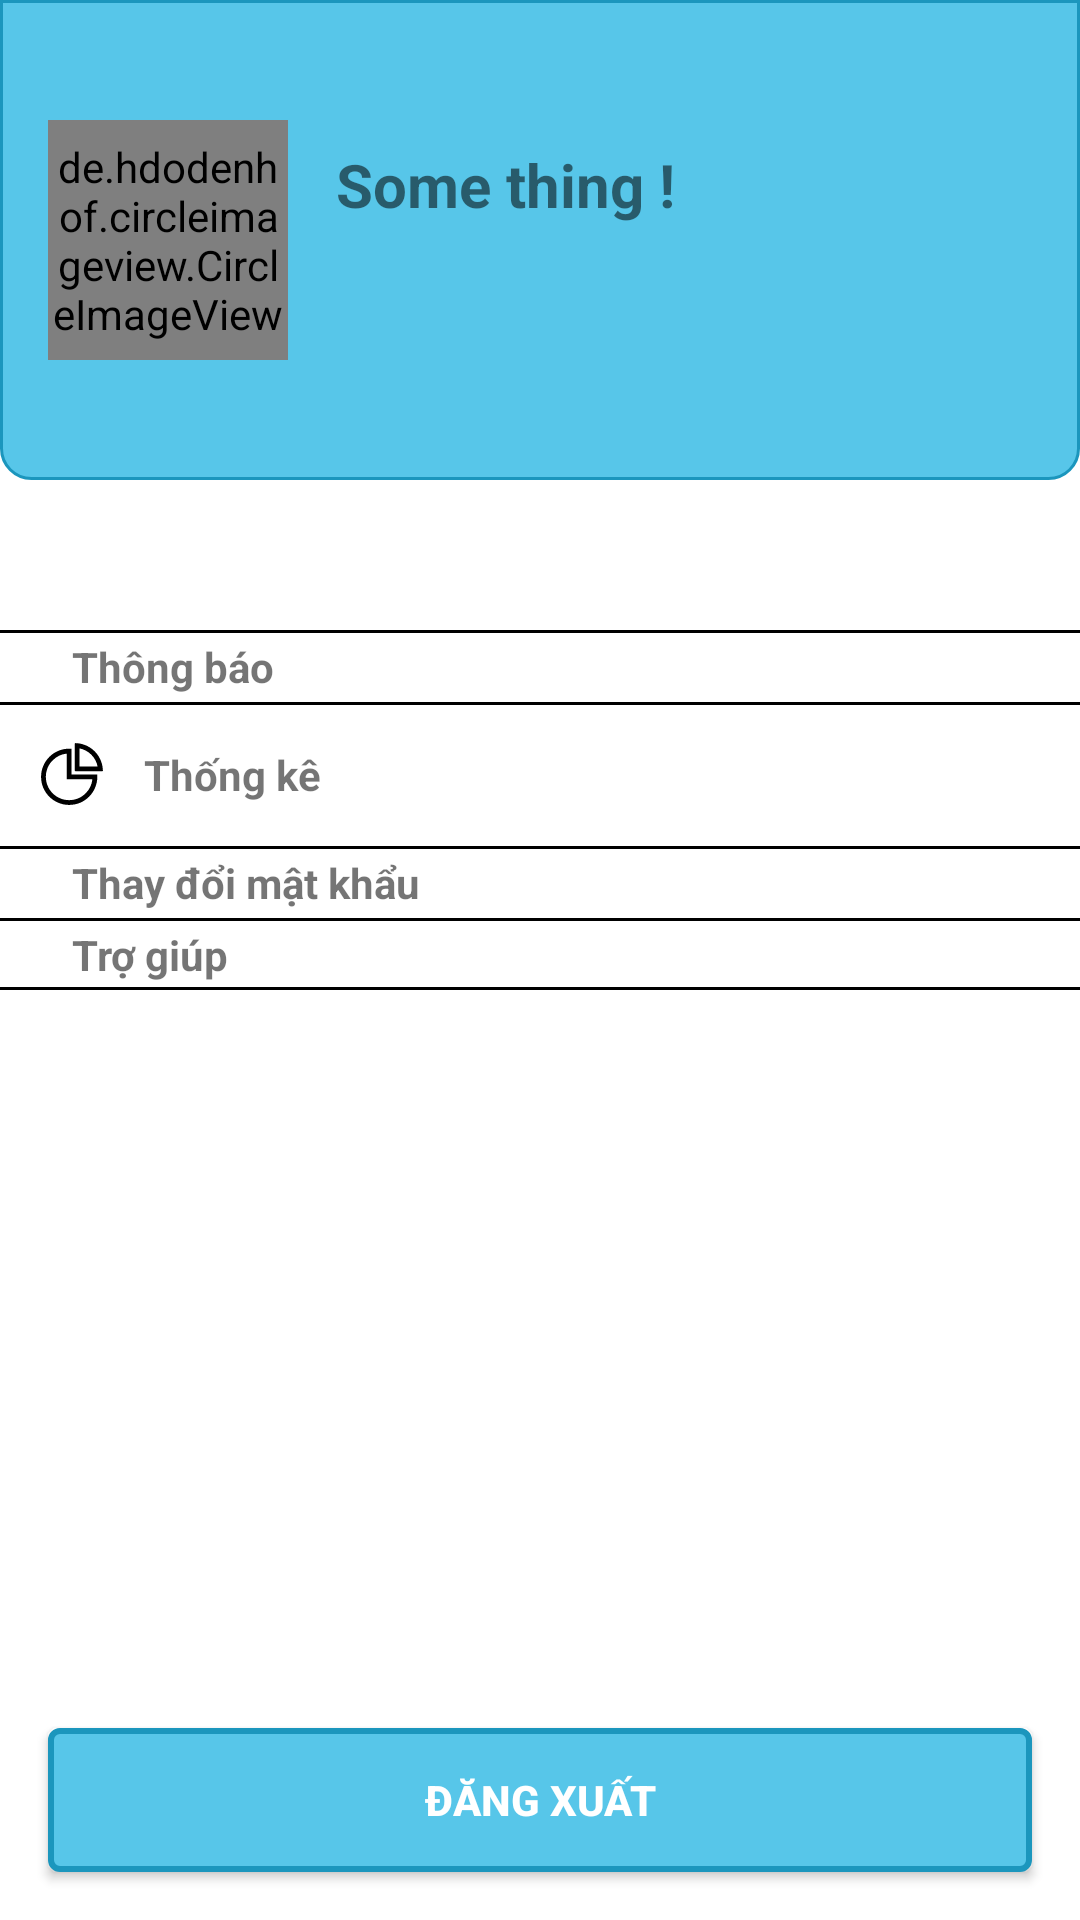

Icon click points for this 1080 × 1920 phone screenshot, format point (x, y):
statistical: point (72, 774)
